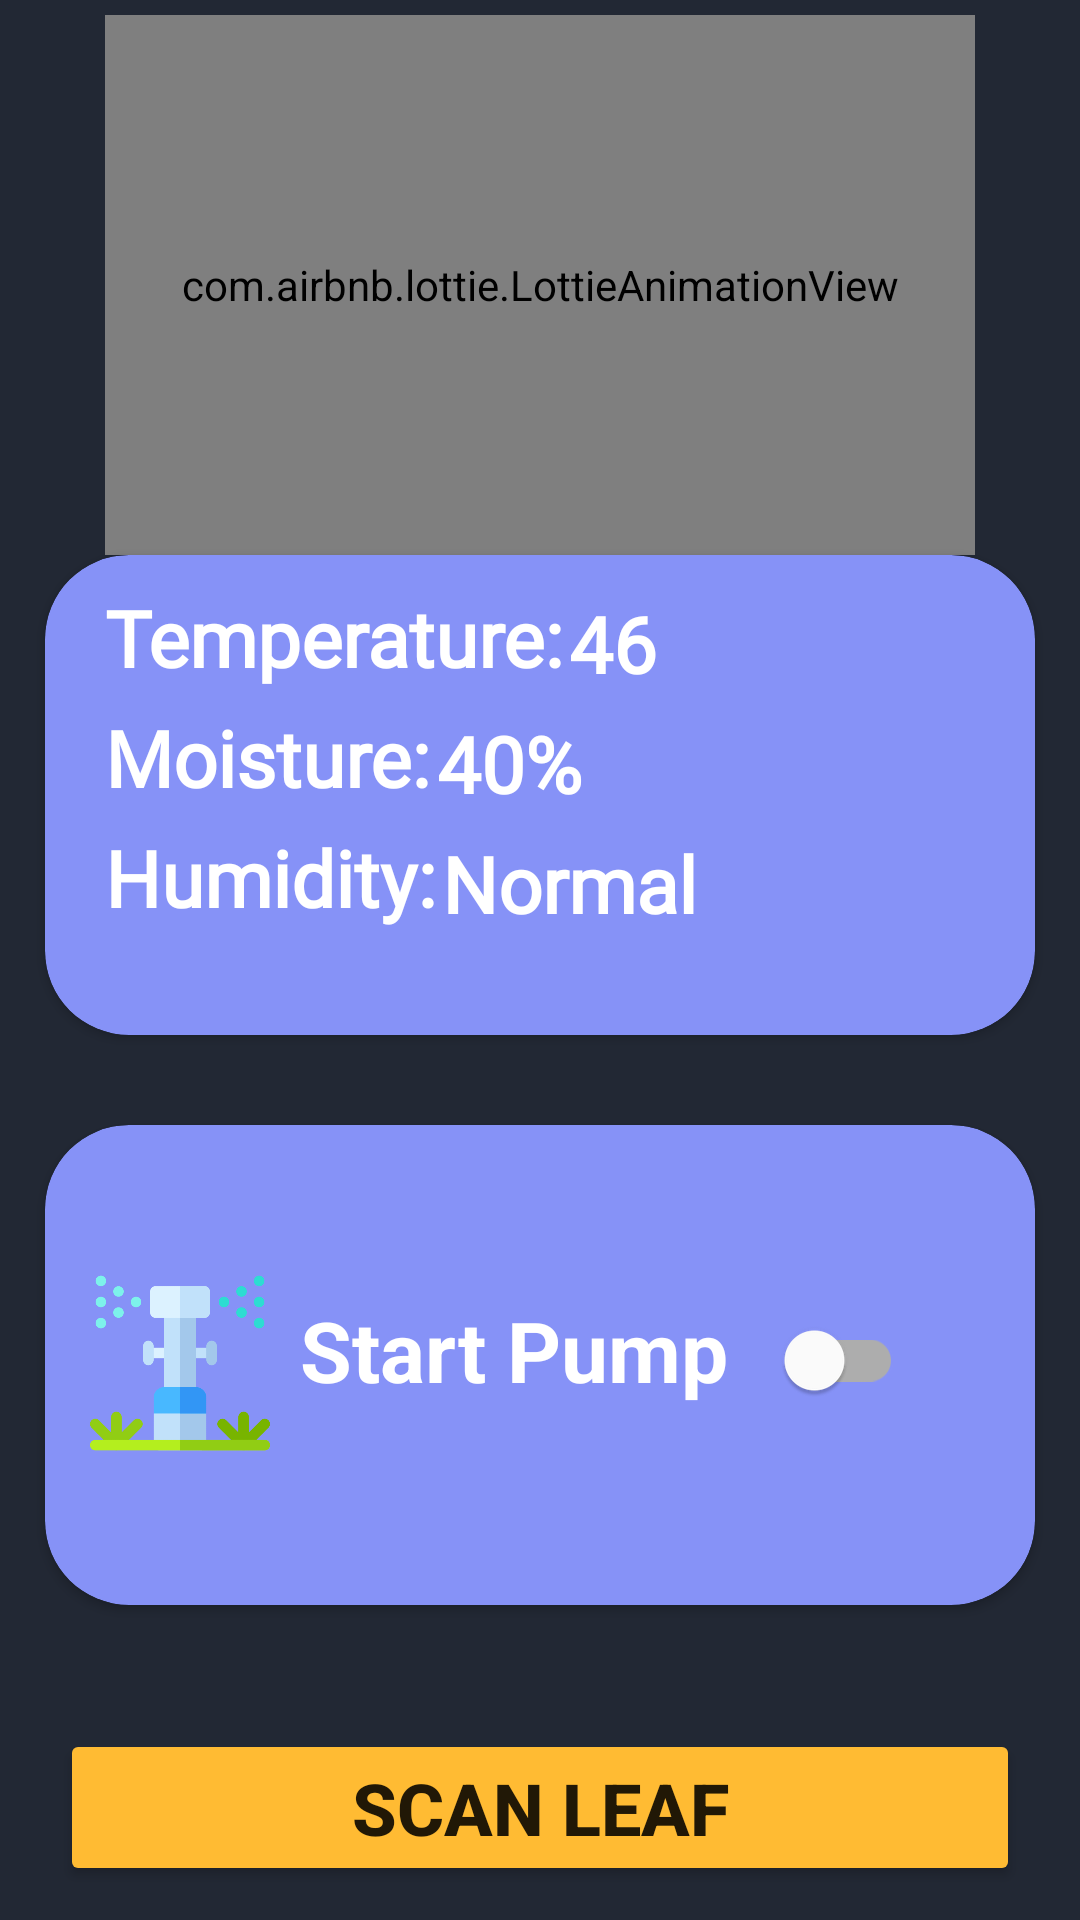

Icon bounding boxes for this 1080 × 1920 phone screenshot, format (x1, y1, x2, y2):
sprinkle: (90, 1275, 270, 1451)
